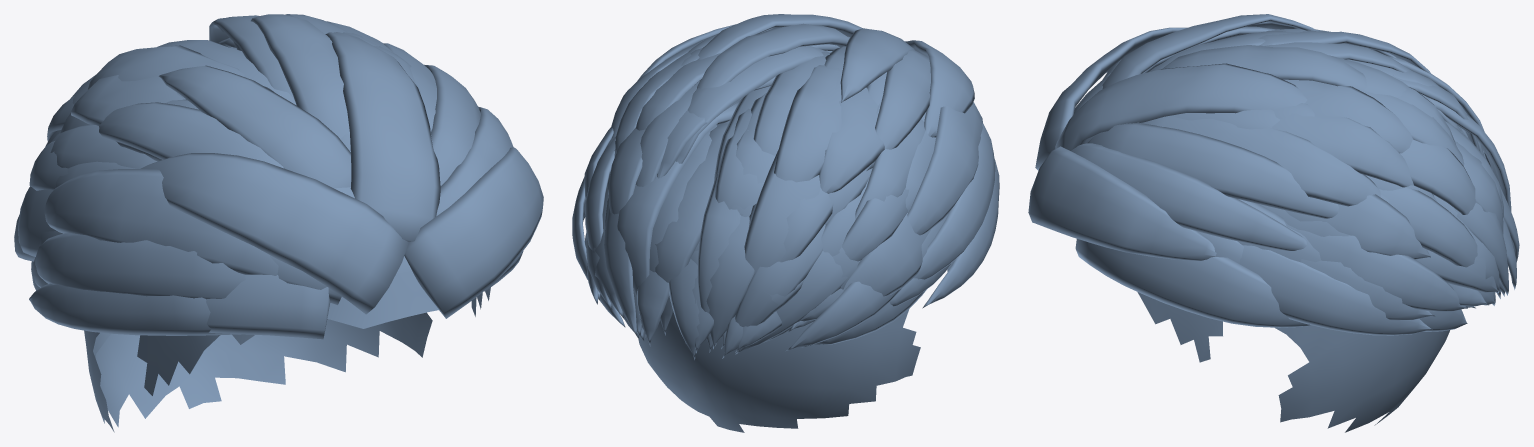
Rendered from hair_anime_male_undercut_slick_back.glb.
3 renders of one model, left to right at view 1: azimuth 30°, elevation 25°; view 2: azimuth 150°, elevation 25°; view 3: azimuth 270°, elevation 25°, orthographic. The views are drawn at different scales.
Visible parts, largest first — view 1: AM_Hair_UndercutSlickBack.001; view 2: AM_Hair_UndercutSlickBack.001; view 3: AM_Hair_UndercutSlickBack.001.
Part boxes in pixels (x1=…): AM_Hair_UndercutSlickBack.001: x1=14, y1=14, x2=543, y2=432; AM_Hair_UndercutSlickBack.001: x1=572, y1=14, x2=999, y2=432; AM_Hair_UndercutSlickBack.001: x1=1028, y1=14, x2=1519, y2=432.
Size of the model in its own units: 0.221 by 0.2005 by 0.2451.
